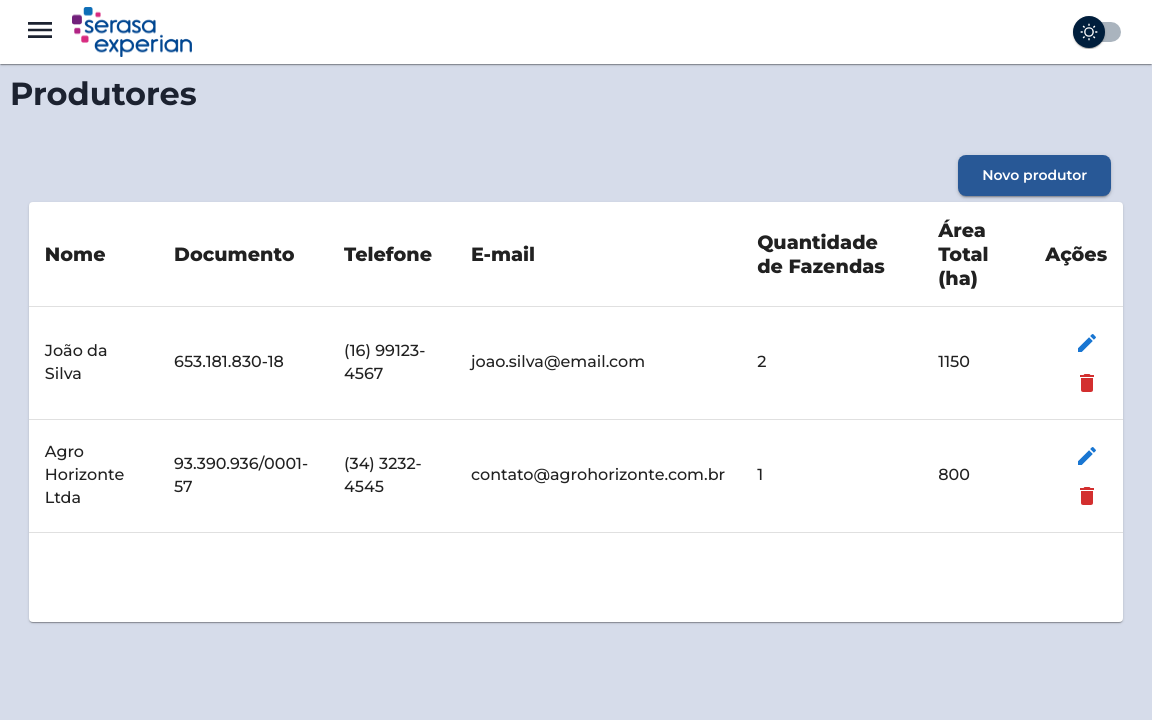
Scenario: ProducerListPage › should open and close modal on delete click and cancel
Click the button named "Excluir" in the row of "653.181.830-18": [1087, 383] box x1=1067 y1=363 x2=1107 y2=403
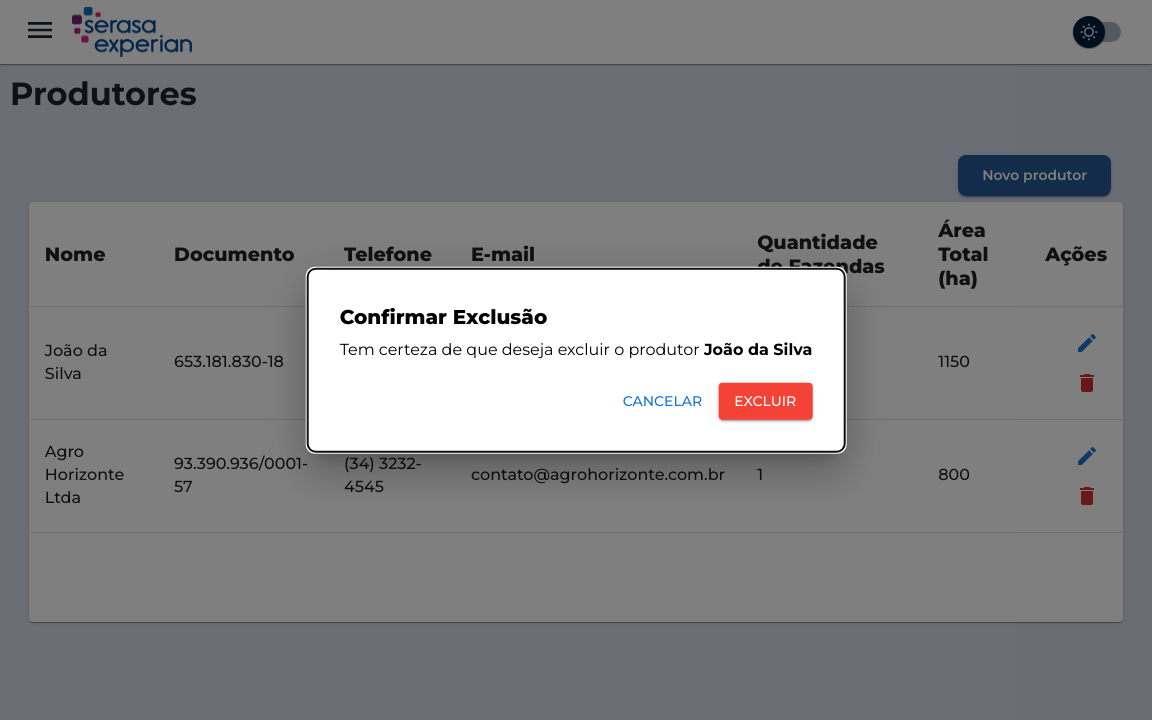
Expected: the text "João da Silva" is shown, x1=29 y1=306 x2=158 y2=419
Expected: the text "Tem certeza de que deseja excluir o produtor João da Silva" is shown, x1=340 y1=340 x2=812 y2=359
Click the button "Cancelar": [663, 401] box x1=615 y1=383 x2=710 y2=419
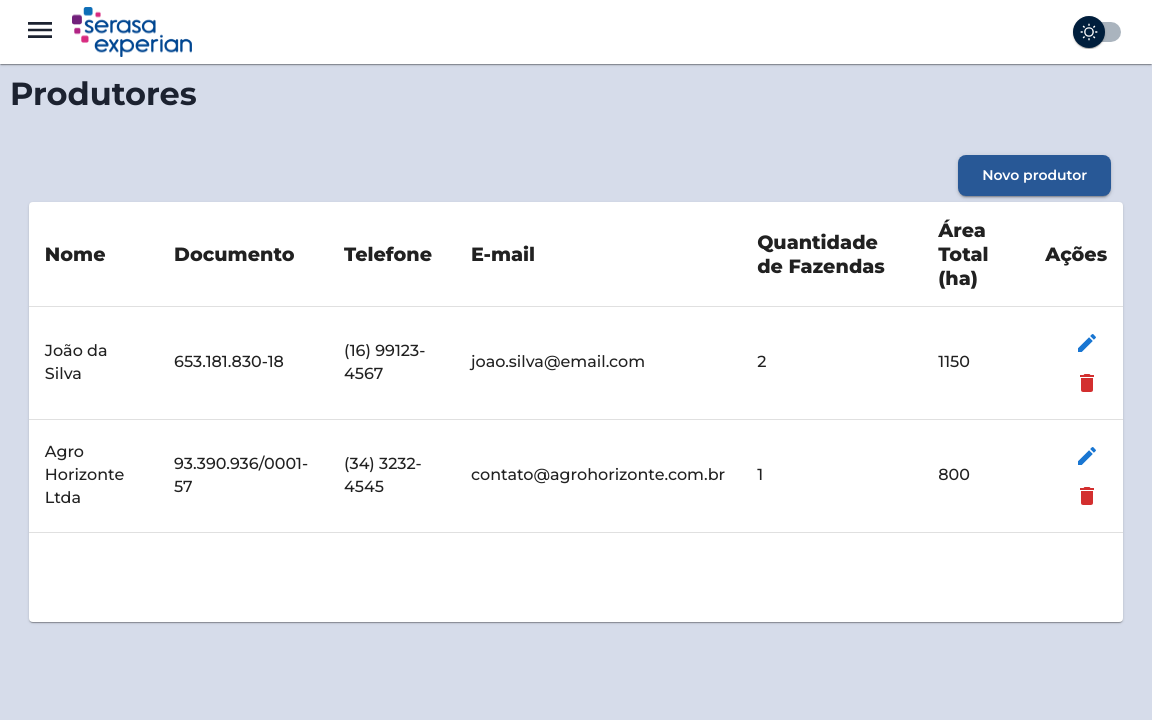
Expected: the text "Tem certeza de que deseja excluir o produtor" is gone
